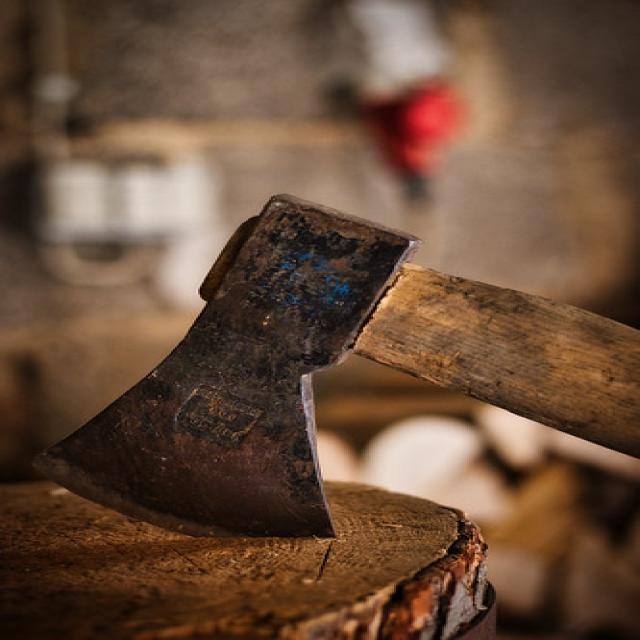Axe: (36, 195, 640, 536)
